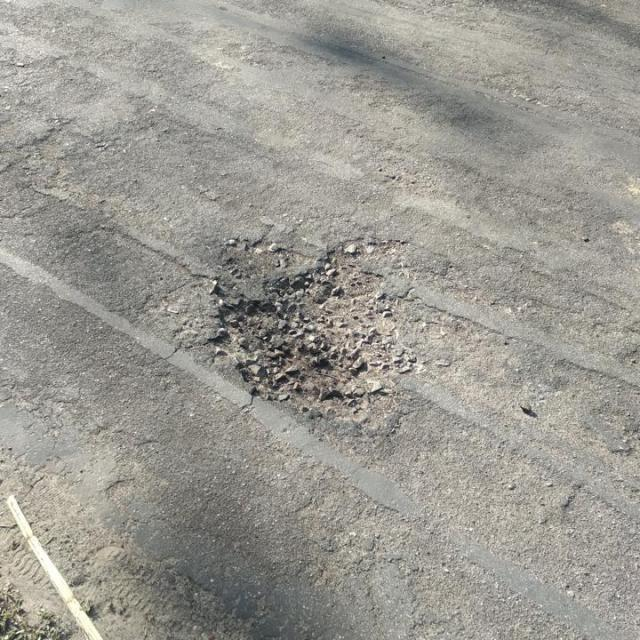pothole: (211, 238, 409, 422)
